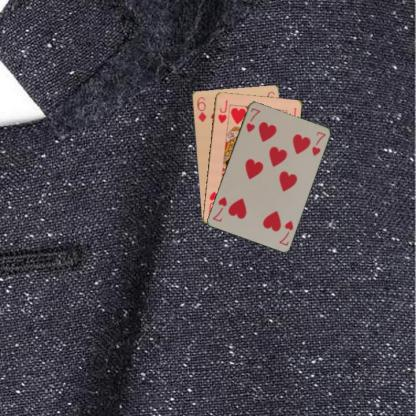6d: (194, 94, 208, 123)
7h: (243, 105, 262, 134), (277, 218, 294, 247)
Jh: (216, 98, 230, 124)
